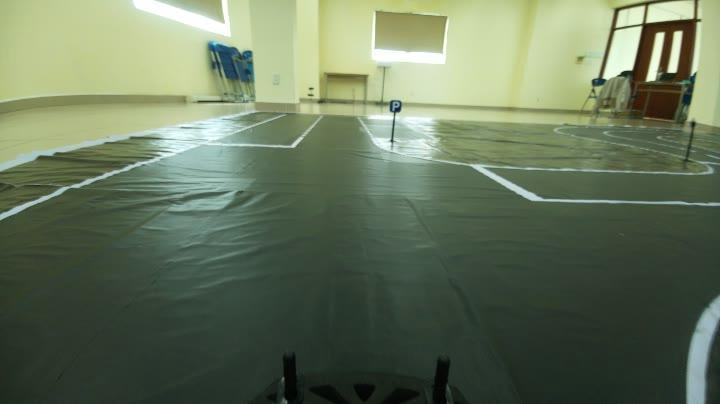parking: (383, 93, 406, 115)
